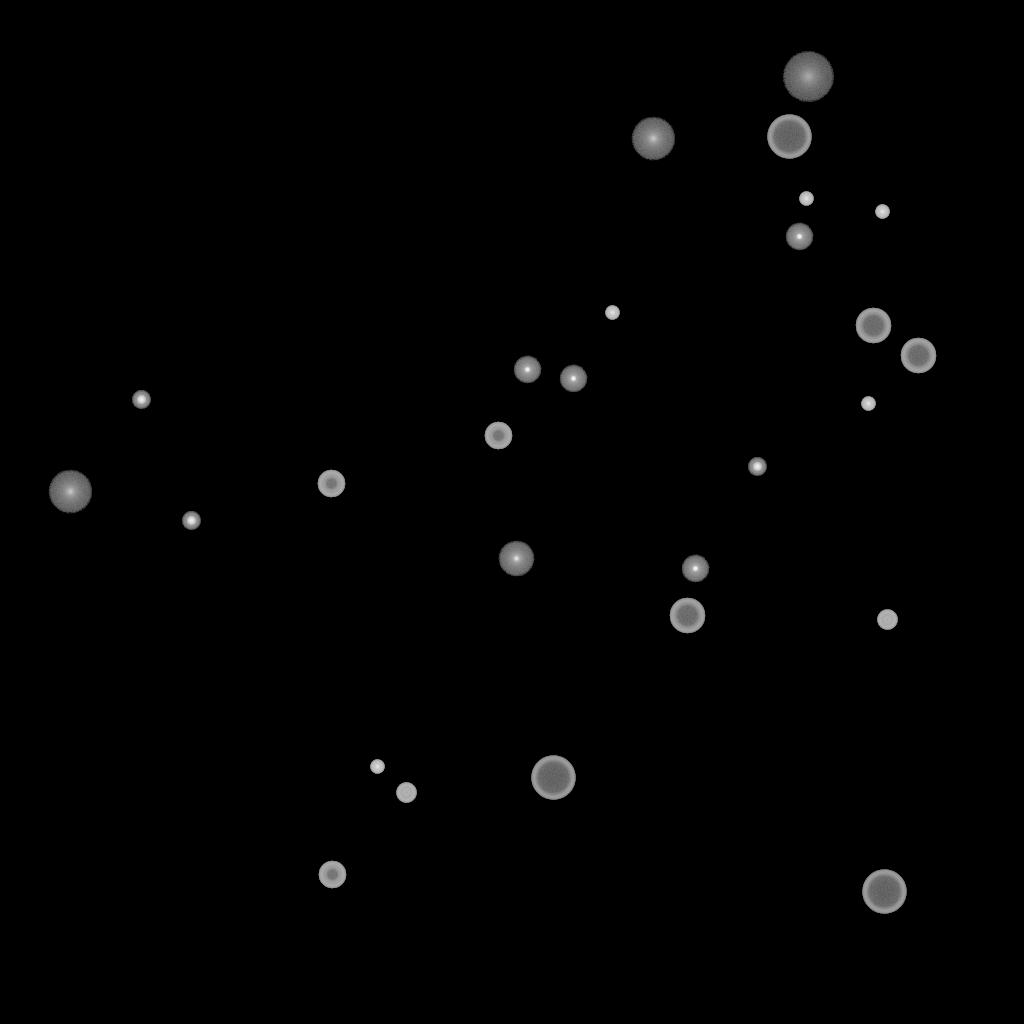depth:-10: (681, 555, 709, 583), (559, 365, 587, 393), (785, 223, 813, 251), (513, 356, 541, 384)
depth:-20: (132, 391, 150, 409), (748, 458, 766, 476), (182, 512, 200, 530)
depth:-30: (861, 397, 875, 411), (370, 760, 384, 774), (605, 306, 619, 320), (875, 205, 889, 219), (799, 192, 813, 206)
depth:-40: (877, 610, 897, 630), (396, 783, 416, 803)
depth:-50: (484, 422, 512, 450), (318, 861, 346, 889), (317, 470, 345, 498)
depth:-60: (855, 308, 891, 344), (669, 598, 705, 634), (900, 338, 936, 374)
depth:-70: (767, 115, 811, 159), (531, 756, 575, 800), (862, 870, 906, 914)
depth:0: (498, 541, 534, 577)
depth:10: (631, 117, 675, 161), (48, 470, 92, 514)
depth:20: (782, 52, 834, 102)
